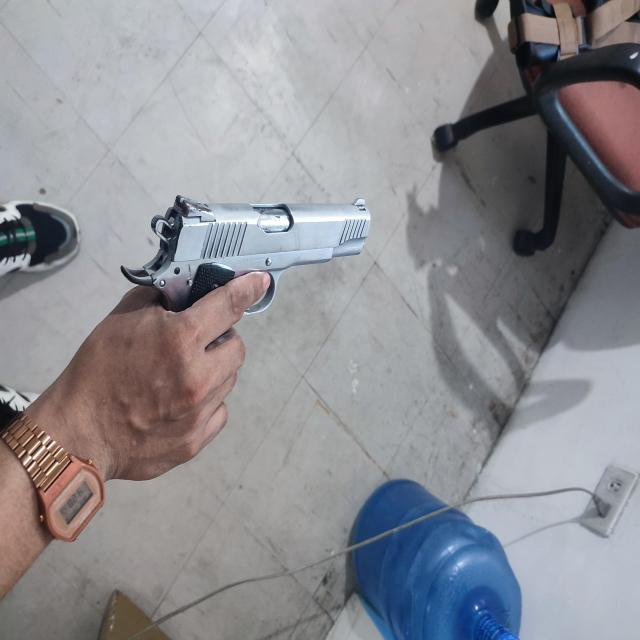pistol: (120, 195, 371, 316)
